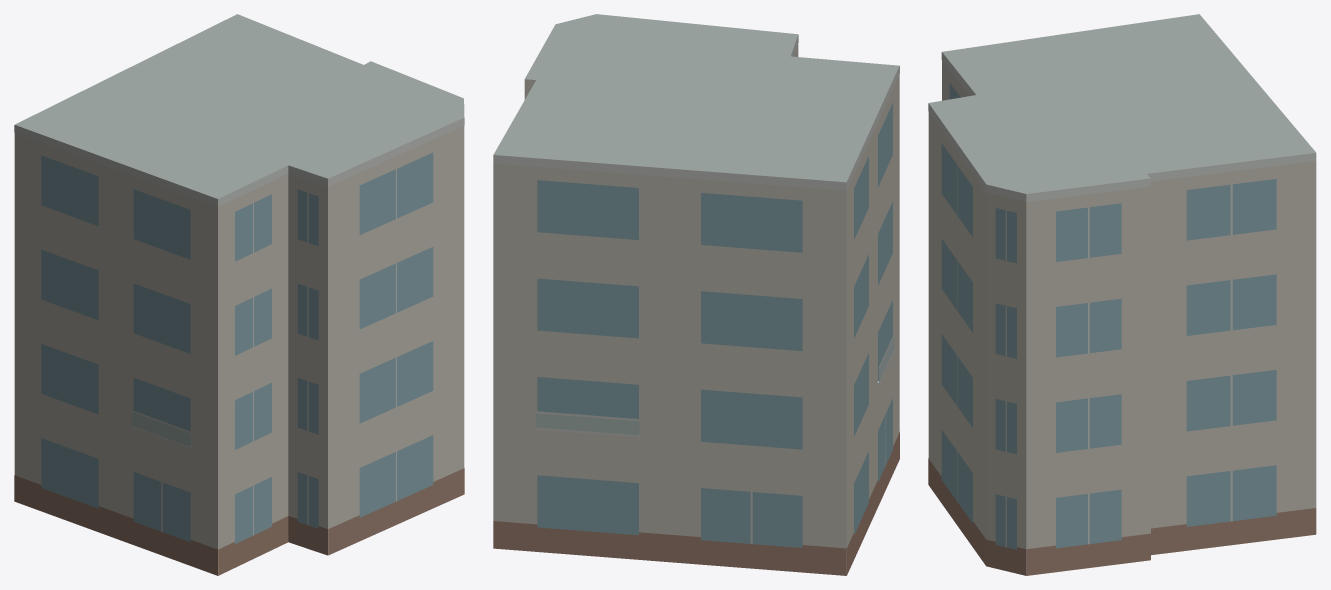
Rendered from survey-upis-32534681.glb.
3 renders of one model, left to right at view 1: azimuth 30°, elevation 25°; view 2: azimuth 150°, elevation 25°; view 3: azimuth 270°, elevation 25°, orthographic. The views are drawn at different scales.
Parts seen in each view (by area): view 1: survey-upis-32534681.tmp; view 2: survey-upis-32534681.tmp; view 3: survey-upis-32534681.tmp.
Boxes of the visible parts, x1,y1,x2,y2 form: survey-upis-32534681.tmp: [14, 14, 464, 575]; survey-upis-32534681.tmp: [493, 14, 899, 575]; survey-upis-32534681.tmp: [928, 14, 1316, 575].
Bounding box in the file's own units: 11.64 × 11.5 × 10.6.
